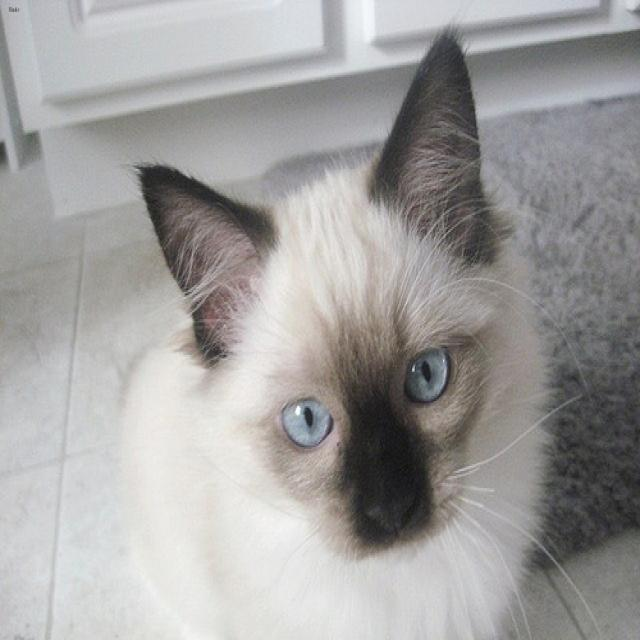Ragdoll: (127, 23, 528, 566)
